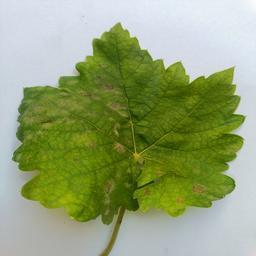Powdery-Mildew: (28, 79, 128, 126), (96, 168, 129, 213), (169, 174, 206, 209), (73, 128, 100, 150), (140, 184, 156, 201)
